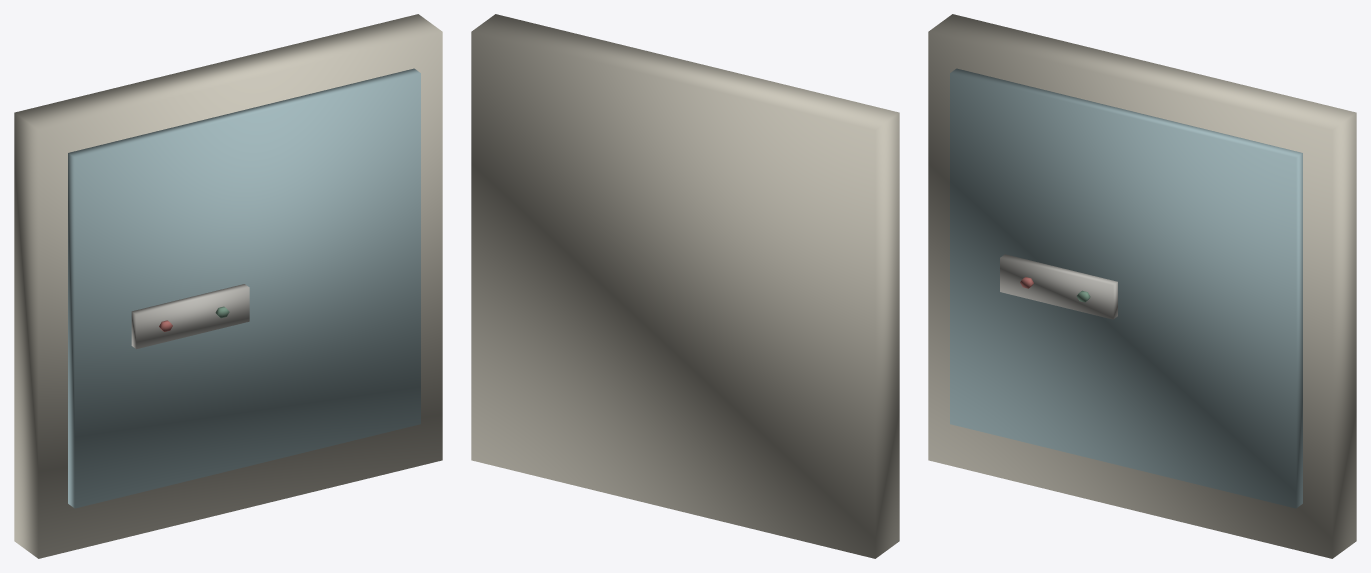
File: x_ray_lightbox__wide.glb
3 views of the same model, side by side, from view 1: azimuth 30°, elevation 25°; view 2: azimuth 150°, elevation 25°; view 3: azimuth 330°, elevation 25° (orthographic).
Visible parts, largest first — view 1: world; view 2: world; view 3: world.
Part boxes in pixels (x1,y1,x2,y2): world: (14,14,442,558); world: (471,14,899,558); world: (928,14,1356,558).
Size of the model in its own units: 0.868 by 0.88 by 0.1485.
